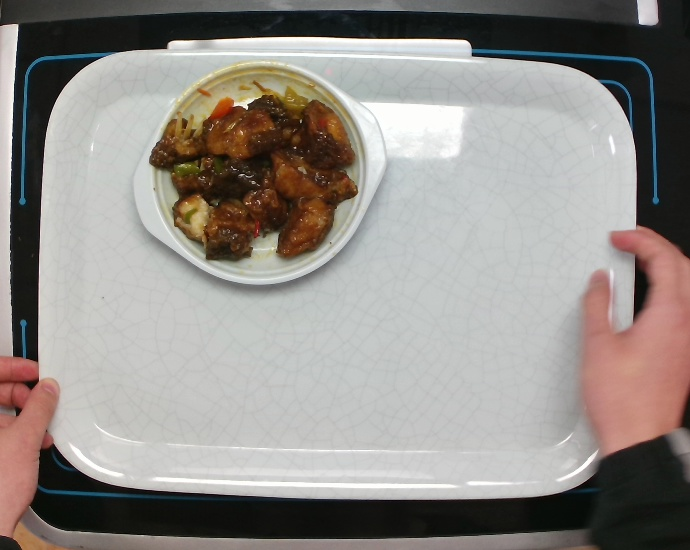JYsf-Shuang_Er_Pan: (126, 57, 389, 292)
